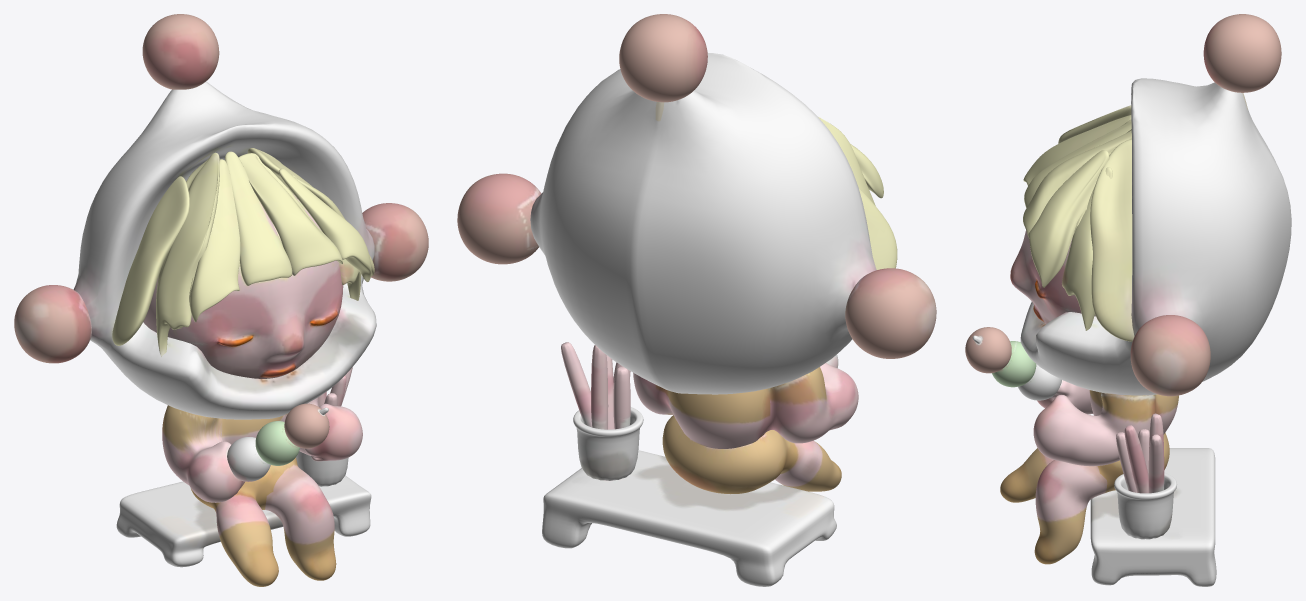
File: skullpanda-warmth.glb
The picture shows the model from 3 angles, left to right: view 1: azimuth 30°, elevation 25°; view 2: azimuth 150°, elevation 25°; view 3: azimuth 270°, elevation 25°; orthographic projection. The views are drawn at different scales.
Visible parts, largest first — view 1: helmet, face, legs_torsoyes, table, this_one_without_extride, hair7, hair6, l_ball, top_ball, hair2, hair5, hair1 (+8 smaller); view 2: helmet, table, this_one_without_extride, legs_torsoyes, l_ball, top_ball, r_ball, pCylinder2, hair6, pCylinder3, pCylinder6, pCylinder7 (+2 smaller); view 3: helmet, table, this_one_without_extride, legs_torsoyes, hair4, r_ball, top_ball, hair3, pCylinder2, face, hair8, hair2 (+9 smaller).
Boxes of the visible parts, x1,y1,x2,y2 form: helmet: [73, 81, 376, 419]; face: [143, 187, 343, 378]; legs_torsoyes: [191, 457, 336, 586]; table: [116, 475, 371, 567]; this_one_without_extride: [162, 398, 362, 502]; hair7: [156, 152, 219, 356]; hair6: [112, 176, 189, 345]; l_ball: [14, 285, 91, 363]; top_ball: [142, 14, 219, 89]; hair2: [238, 153, 342, 275]; hair5: [189, 159, 240, 322]; hair1: [225, 151, 292, 285]; helmet: [530, 53, 876, 394]; table: [542, 450, 836, 586]; this_one_without_extride: [633, 363, 858, 448]; legs_torsoyes: [662, 415, 841, 494]; l_ball: [845, 268, 936, 358]; top_ball: [619, 14, 707, 102]; r_ball: [457, 173, 541, 264]; pCylinder2: [573, 407, 643, 480]; hair6: [858, 187, 897, 269]; pCylinder3: [591, 345, 608, 429]; pCylinder6: [561, 342, 592, 427]; pCylinder7: [613, 366, 630, 429]; helmet: [1020, 78, 1291, 395]; table: [1090, 448, 1216, 586]; this_one_without_extride: [1033, 380, 1178, 466]; legs_torsoyes: [1000, 432, 1169, 564]; hair4: [1090, 139, 1134, 341]; r_ball: [1130, 315, 1210, 396]; top_ball: [1203, 14, 1281, 92]; hair3: [1028, 150, 1109, 287]; pCylinder2: [1114, 472, 1176, 539]; face: [1010, 230, 1095, 323]; hair8: [1061, 167, 1112, 330]; hair2: [1023, 130, 1131, 237].
Size of the model in its own units: 0.0897 by 0.1071 by 0.0608.
1 material, 1 textured.
